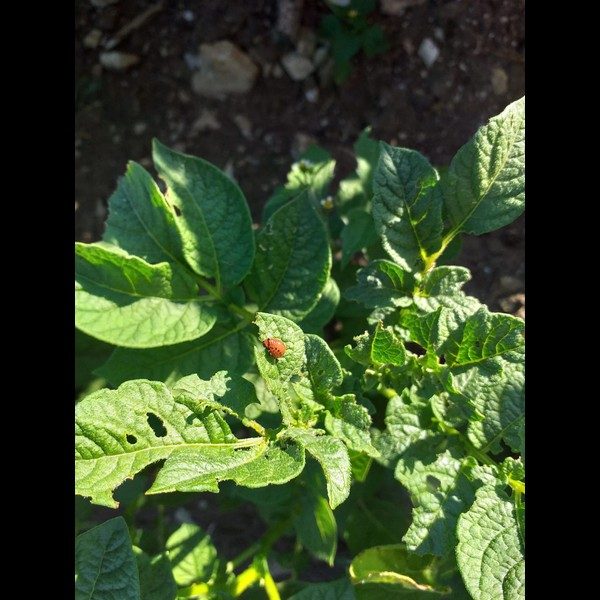hrosc: (264, 335, 288, 361)
